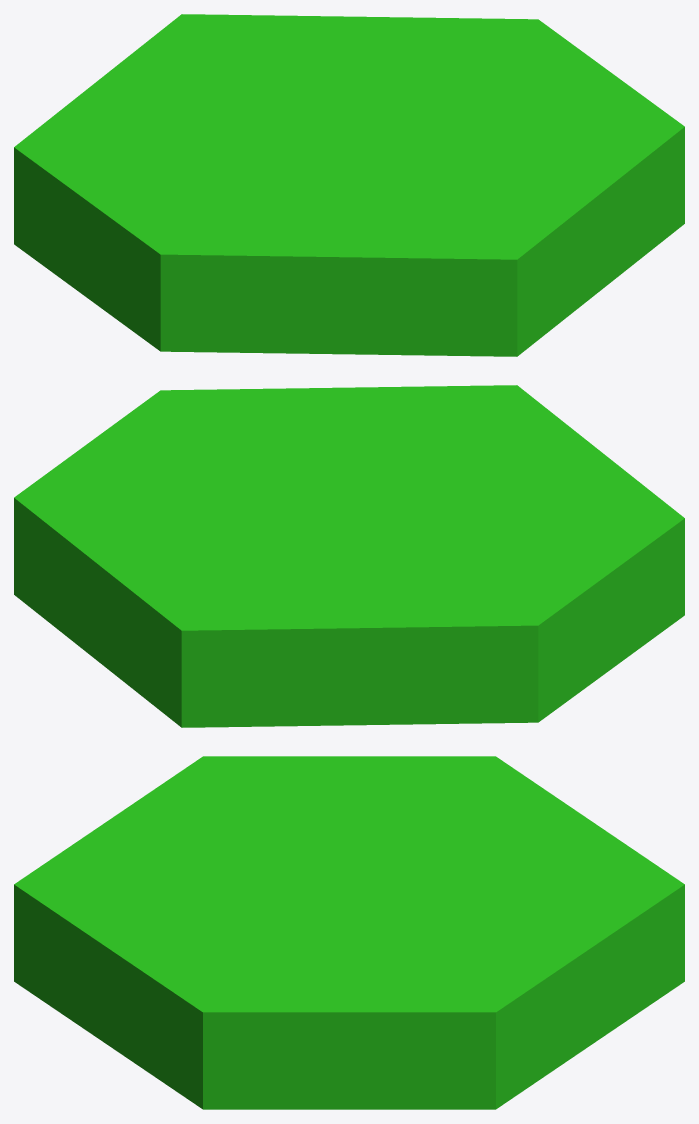
The model's file is NormalContent.fbx.
The picture shows the model from 3 angles, top to bottom: view 1: azimuth 30°, elevation 25°; view 2: azimuth 150°, elevation 25°; view 3: azimuth 270°, elevation 25°; orthographic projection.
Visible parts, largest first — view 1: Model; view 2: Model; view 3: Model.
Part boxes in pixels (box(x1,y1,x2,y2)): Model: box(14, 14, 684, 356); Model: box(14, 385, 684, 727); Model: box(14, 756, 684, 1109).
Size of what is drawn, in the model's own units: 1.74 by 0.308 by 1.93.
